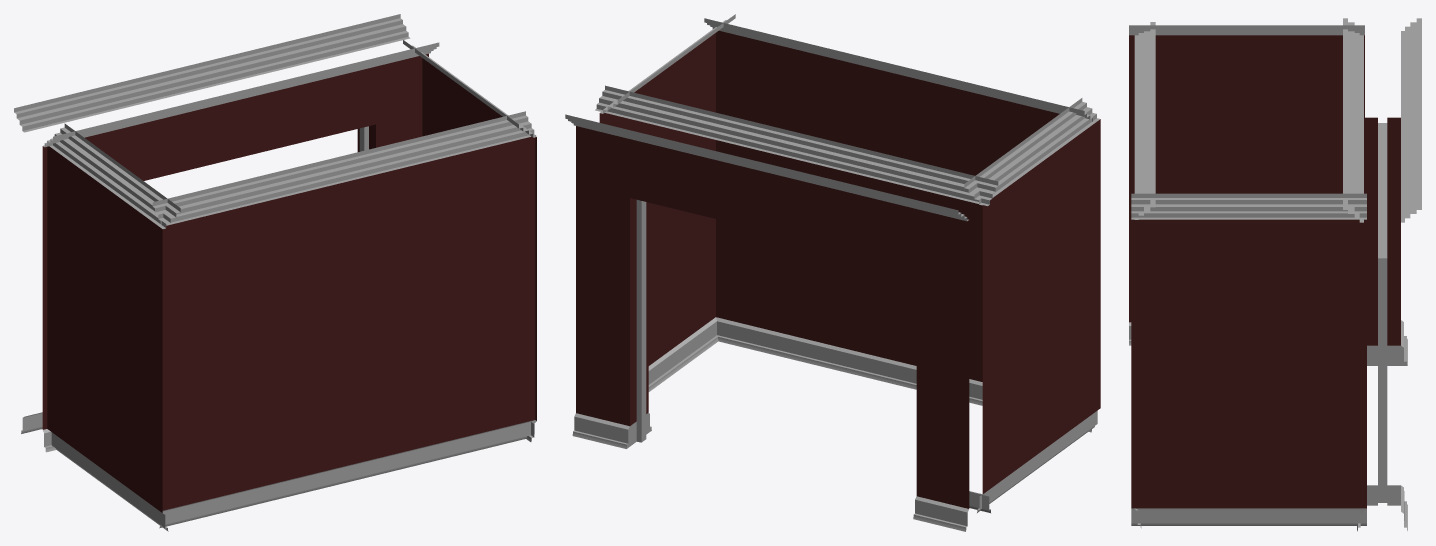
File: DoubleCloset.fbx
The picture shows the model from 3 angles, left to right: view 1: azimuth 30°, elevation 25°; view 2: azimuth 150°, elevation 25°; view 3: azimuth 270°, elevation 25°; orthographic projection.
Parts seen in each view (by area): view 1: WallOneSide28, WallOneSide24, WallOneSide27, WallOneSide26; view 2: WallOneSide27, WallOneSide28, WallOneSide24, WallOneSide26; view 3: WallOneSide26, WallOneSide24, WallOneSide27, WallOneSide28.
Boxes of the visible parts, x1,y1,x2,y2 form: WallOneSide28: [152, 111, 535, 528]; WallOneSide24: [47, 123, 180, 531]; WallOneSide27: [14, 14, 439, 452]; WallOneSide26: [403, 40, 536, 441]; WallOneSide27: [565, 85, 998, 531]; WallOneSide28: [704, 18, 1094, 432]; WallOneSide24: [964, 98, 1100, 512]; WallOneSide26: [599, 14, 735, 391]; WallOneSide26: [1131, 193, 1366, 525]; WallOneSide24: [1129, 25, 1364, 345]; WallOneSide27: [1343, 18, 1421, 531]; WallOneSide28: [1134, 22, 1155, 528].
Size of the model in its own units: 4.54 by 3.6 by 2.93.
